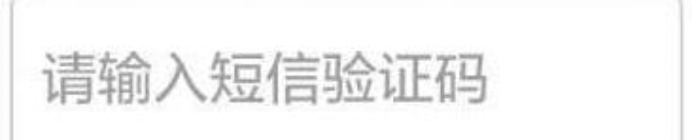EditText: (1, 1, 691, 139)
